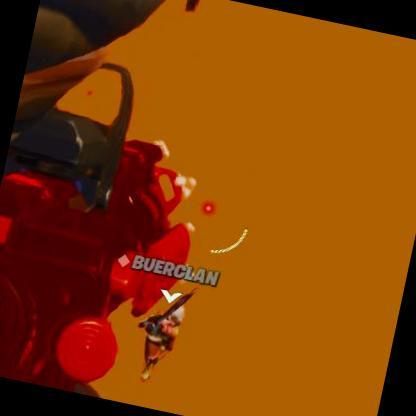person: (140, 292, 188, 386)
